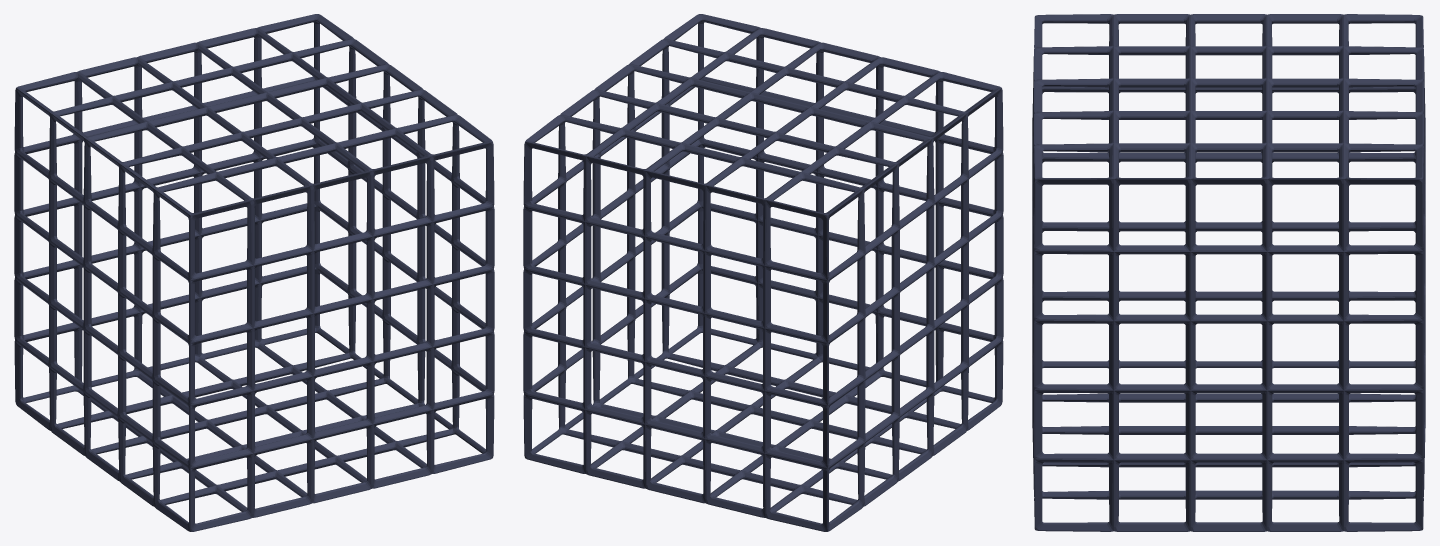
3 renders of one model, left to right at view 1: azimuth 30°, elevation 25°; view 2: azimuth 150°, elevation 25°; view 3: azimuth 270°, elevation 25°, orthographic. The views are drawn at different scales.
Parts seen in each view (by area): view 1: Cube_4; view 2: Cube_4; view 3: Cube_4.
Part boxes in pixels (bbox=[...]): Cube_4: bbox=[14, 14, 494, 531]; Cube_4: bbox=[523, 14, 1003, 531]; Cube_4: bbox=[1032, 14, 1425, 531].
Size of the model in its own units: 1.03 by 1.03 by 1.03.
